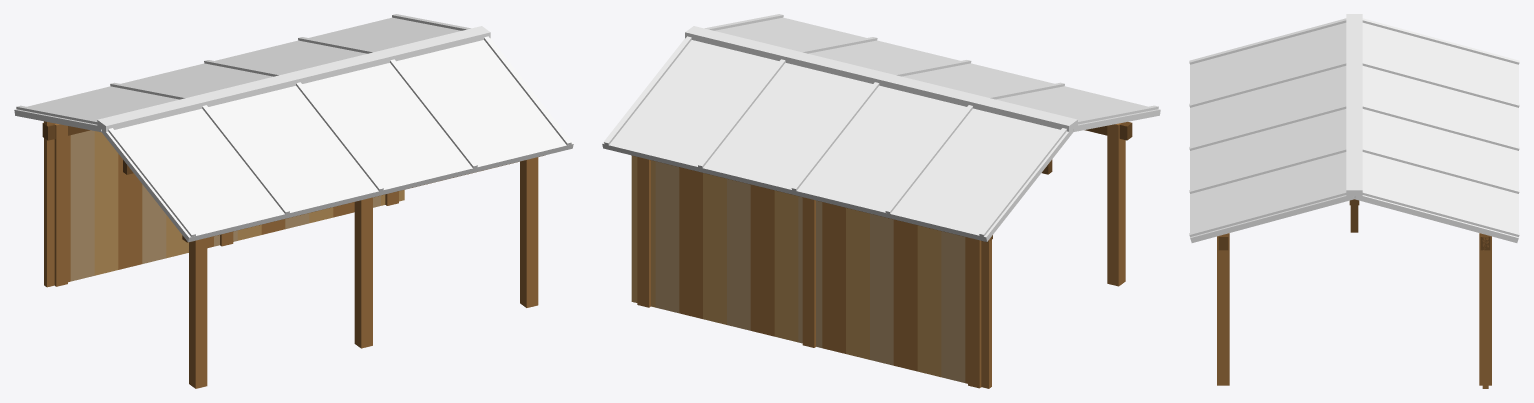
File: hay_barn.glb
3 renders of one model, left to right at view 1: azimuth 30°, elevation 25°; view 2: azimuth 150°, elevation 25°; view 3: azimuth 270°, elevation 25°, orthographic. The views are drawn at different scales.
Parts seen in each view (by area): view 1: HayBarn; view 2: HayBarn; view 3: HayBarn.
Part boxes in pixels (x1,y1,x2,y2): HayBarn: (14, 14, 573, 388); HayBarn: (602, 14, 1160, 388); HayBarn: (1189, 14, 1519, 388).
Bounding box in the file's own units: 8.6 × 4.65 × 6.8.
